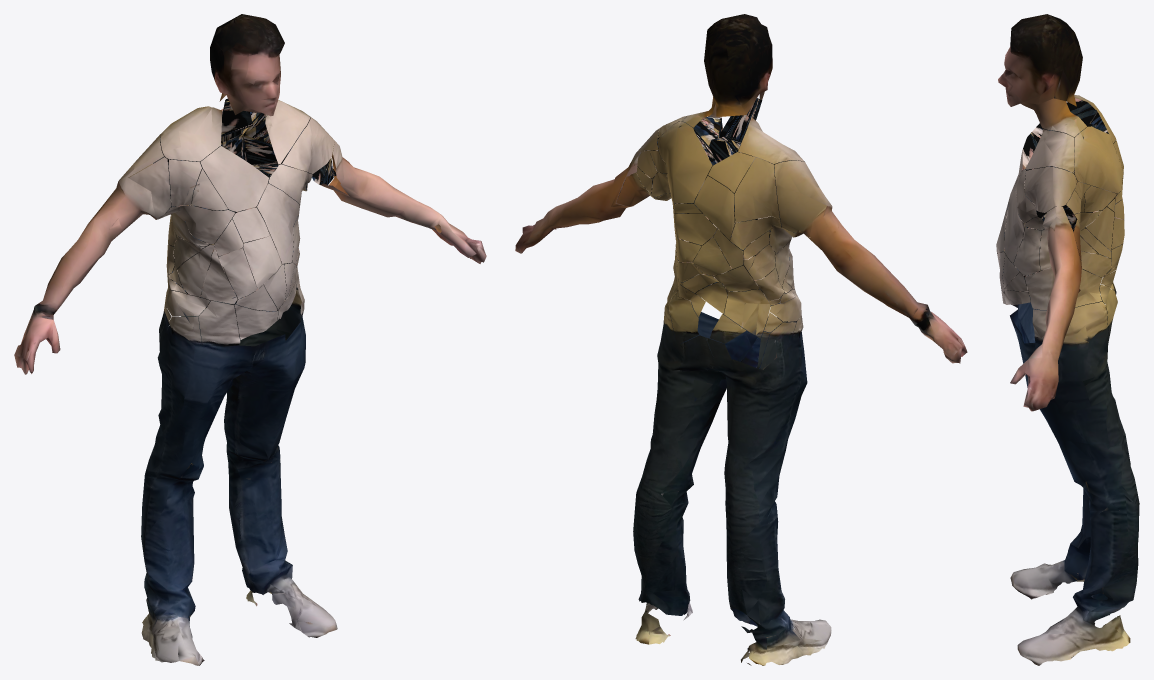
The model's file is jeremyshattered.fbx.
The picture shows the model from 3 angles, left to right: view 1: azimuth 30°, elevation 25°; view 2: azimuth 150°, elevation 25°; view 3: azimuth 270°, elevation 25°; orthographic projection. The views are drawn at different scales.
Visible parts, largest first — view 1: bake, bake.001, bake.002, bake.005, bake.006, bake.003, bake.004_cell.012, bake.004_cell.023, bake.004_cell.014, bake.004_cell.003, bake.004_cell.001, bake.004_cell_cell.002 (+14 smaller); view 2: bake, bake.001, bake.002, bake.005, bake.006, bake.003, bake.004_cell.029, bake.004_cell.011, bake.004_cell.039_cell.004, bake.004_cell.005_cell.005, bake.004_cell.039_cell.005, bake.004_cell.014 (+10 smaller); view 3: bake.002, bake, bake.006, bake.003, bake.001, bake.004_cell.029, bake.004_cell.025, bake.004_cell.001, bake.004_cell.020, bake.004_cell.012, bake.004_cell.008, bake.004_cell.026 (+19 smaller).
Boxes of the visible parts, <box> form: bake: <box>157,300,305,440</box>; bake.001: <box>141,424,211,665</box>; bake.002: <box>224,405,337,637</box>; bake.005: <box>14,162,156,374</box>; bake.006: <box>210,14,284,116</box>; bake.003: <box>332,148,486,263</box>; bake.004_cell.012: <box>243,100,310,164</box>; bake.004_cell.023: <box>200,146,268,211</box>; bake.004_cell.014: <box>160,106,221,161</box>; bake.004_cell.003: <box>256,183,299,263</box>; bake.004_cell.001: <box>281,116,334,173</box>; bake.004_cell_cell.002: <box>198,300,240,346</box>; bake: <box>653,309,807,458</box>; bake.001: <box>724,440,831,665</box>; bake.002: <box>633,433,706,644</box>; bake.005: <box>804,185,967,363</box>; bake.006: <box>704,14,772,116</box>; bake.003: <box>515,155,637,253</box>; bake.004_cell.029: <box>657,121,716,203</box>; bake.004_cell.011: <box>774,160,826,237</box>; bake.004_cell.039_cell.004: <box>734,157,779,222</box>; bake.004_cell.005_cell.005: <box>724,288,770,338</box>; bake.004_cell.039_cell.005: <box>694,176,735,239</box>; bake.004_cell.014: <box>738,117,804,164</box>; bake.002: <box>1017,434,1139,665</box>; bake: <box>1010,302,1122,443</box>; bake.006: <box>998,14,1082,106</box>; bake.003: <box>1010,217,1081,411</box>; bake.001: <box>1010,397,1130,599</box>; bake.004_cell.029: <box>1073,126,1123,193</box>; bake.004_cell.025: <box>1032,301,1108,355</box>; bake.004_cell.001: <box>1024,166,1077,212</box>; bake.004_cell.020: <box>1024,267,1102,310</box>; bake.004_cell.012: <box>1025,129,1074,173</box>; bake.004_cell.008: <box>1020,98,1086,137</box>; bake.004_cell.026: <box>1013,227,1041,275</box>.
Size of the model in its own units: 240 by 315 by 67.24.
